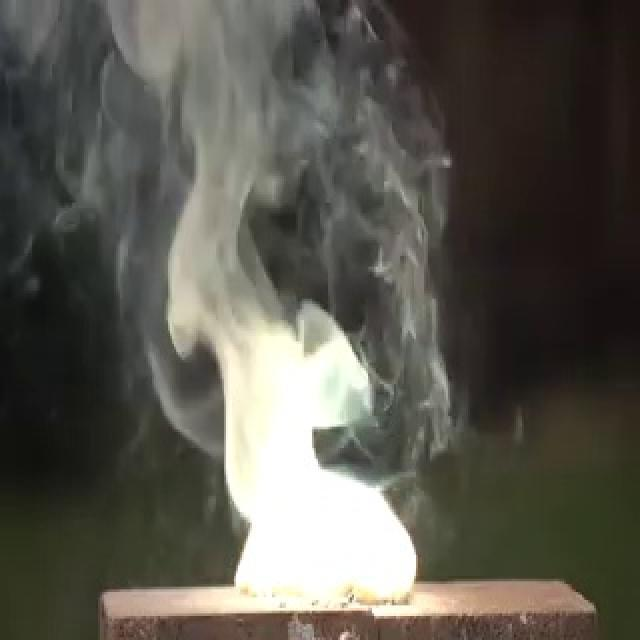fire: (216, 309, 422, 608)
